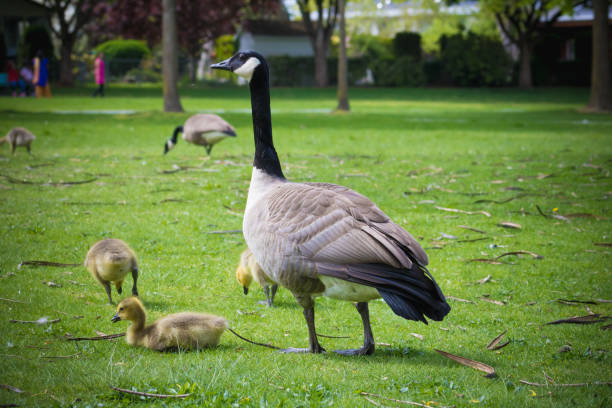goose: (205, 47, 452, 364), (158, 109, 239, 159)
